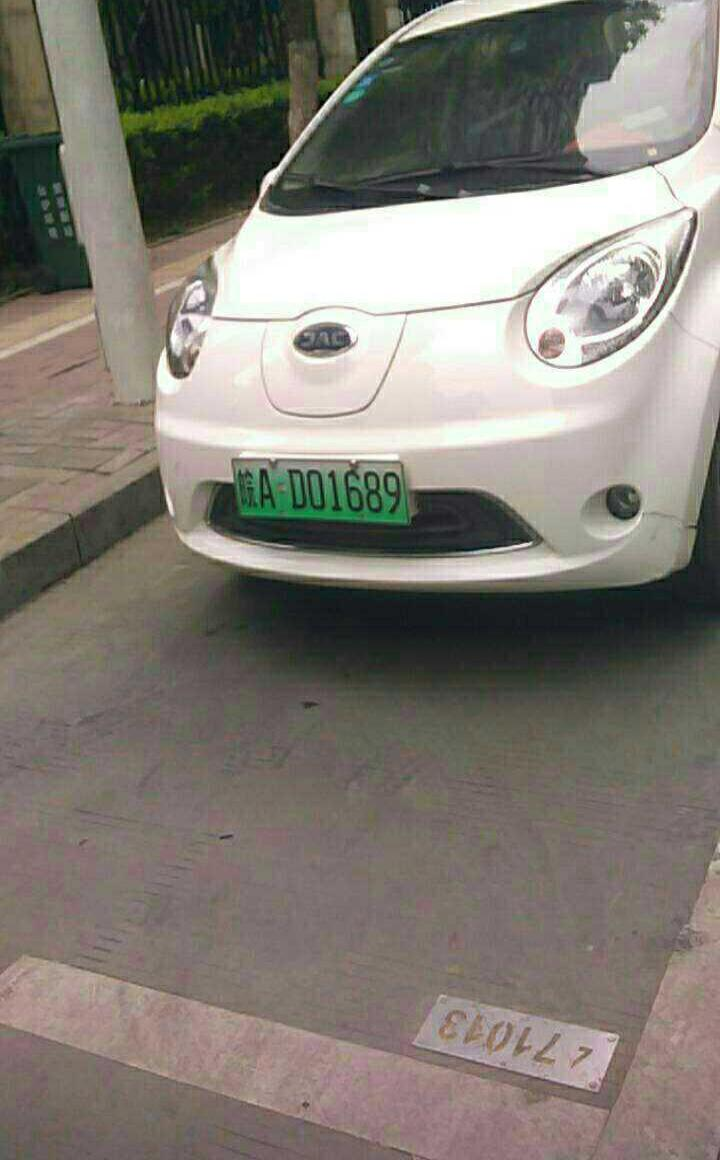car: (228, 461, 413, 526)
